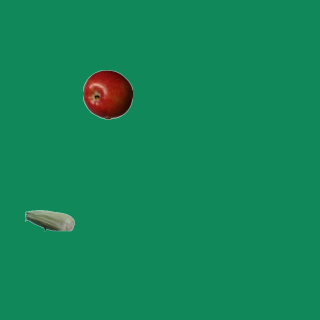Apple Braeburn: (82, 69, 132, 119)
Corn Husk: (24, 195, 74, 245)
